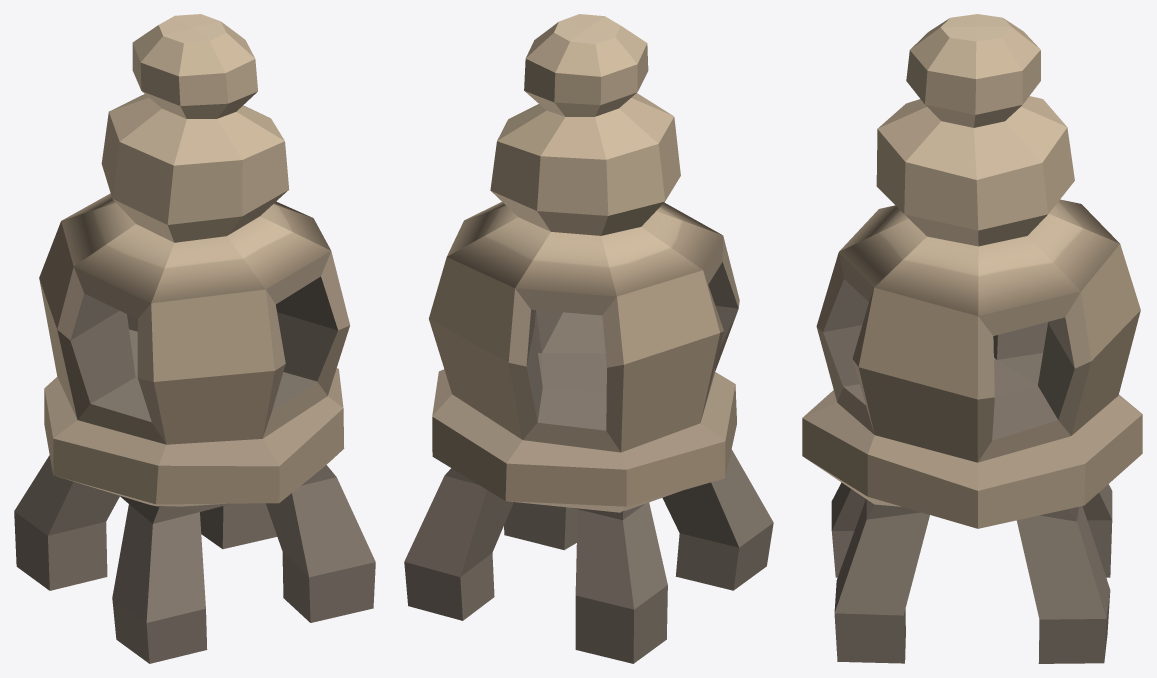
The model's file is SM_Prop_Zen_Lantern_01.fbx.
The picture shows the model from 3 angles, left to right: view 1: azimuth 30°, elevation 25°; view 2: azimuth 150°, elevation 25°; view 3: azimuth 270°, elevation 25°; orthographic projection. The views are drawn at different scales.
Parts seen in each view (by area): view 1: SM_Prop_Zen_Lantern_01; view 2: SM_Prop_Zen_Lantern_01; view 3: SM_Prop_Zen_Lantern_01.
Boxes of the visible parts, x1,y1,x2,y2 form: SM_Prop_Zen_Lantern_01: (14, 14, 375, 663); SM_Prop_Zen_Lantern_01: (404, 14, 773, 663); SM_Prop_Zen_Lantern_01: (802, 14, 1142, 663).
Bounding box in the file's own units: 0.00481 × 0.009 × 0.00481.
Materials: 1 (1 with a texture image).
